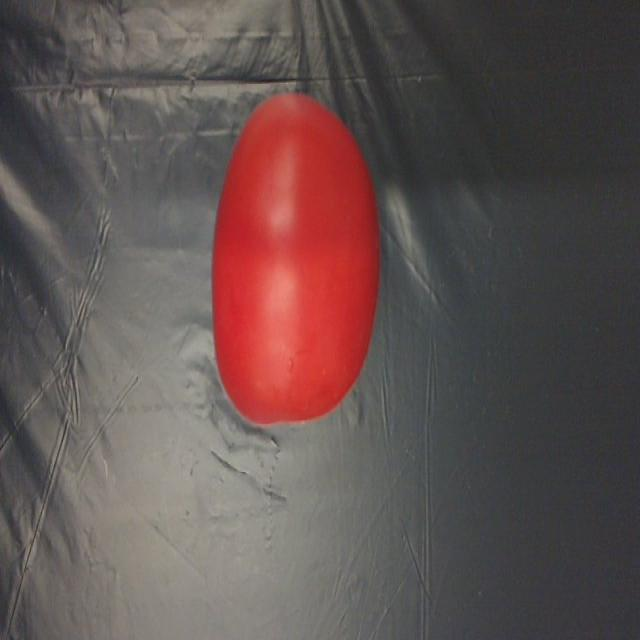kirmizi: (218, 91, 386, 425)
